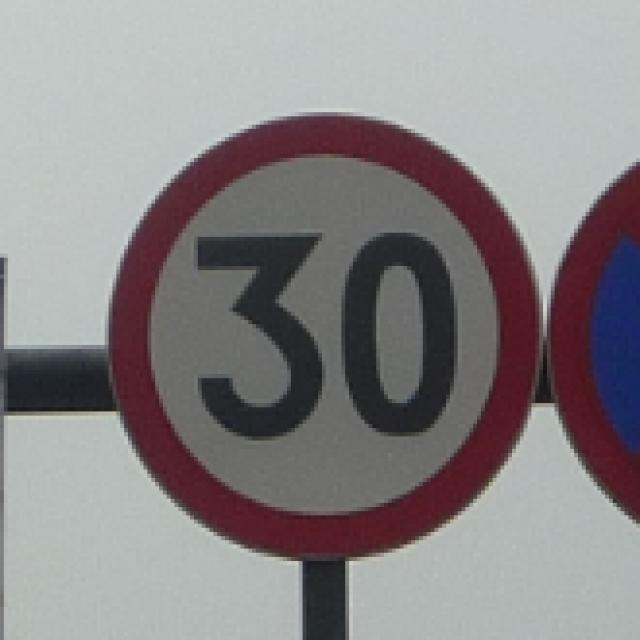Speed: (111, 104, 547, 572)
